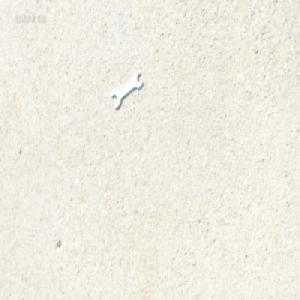Wrench: (111, 70, 144, 109)
